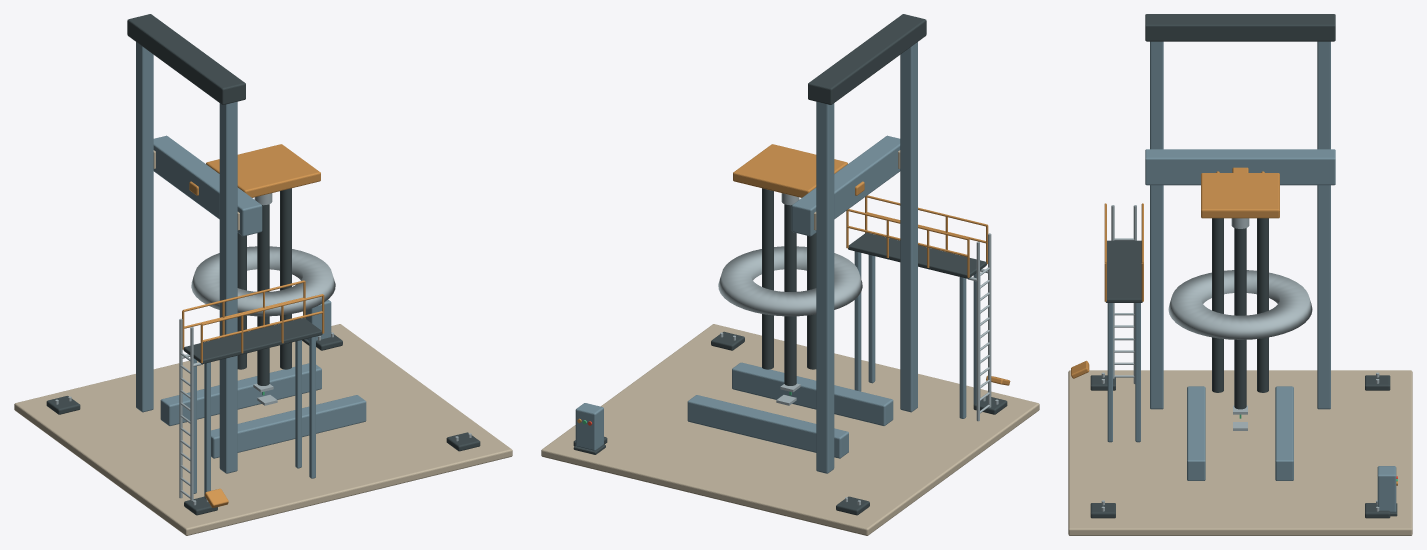
3 renders of one model, left to right at view 1: azimuth 30°, elevation 25°; view 2: azimuth 150°, elevation 25°; view 3: azimuth 270°, elevation 25°, orthographic.
Visible parts, largest first — view 1: foundation, electrode_mast_-1.8, electrode_mast_1.8, refining_roof, mast_bridge, electrode_slide_carriage, ladle_cradle_0.95, ladle_cradle_-0.95, electrode_carrier, lf_service_deck, graphite_electrode_1, graphite_electrode_0 (+7 smaller); view 2: foundation, electrode_mast_-1.8, electrode_mast_1.8, refining_roof, ladle_cradle_-0.95, mast_bridge, ladle_cradle_0.95, electrode_slide_carriage, electrode_carrier, lf_service_deck, graphite_electrode_2, graphite_electrode_0 (+8 smaller); view 3: foundation, refining_roof, electrode_slide_carriage, mast_bridge, electrode_mast_-1.8, electrode_mast_1.8, electrode_carrier, lf_service_deck, graphite_electrode_0, ladle_cradle_-0.95, ladle_cradle_0.95, graphite_electrode_1 (+5 smaller).
Part boxes in pixels (bbox=[...]): foundation: bbox=[14, 324, 512, 535]; electrode_mast_-1.8: bbox=[136, 42, 153, 412]; electrode_mast_1.8: bbox=[219, 101, 237, 473]; refining_roof: bbox=[191, 246, 335, 316]; mast_bridge: bbox=[127, 14, 245, 104]; electrode_slide_carriage: bbox=[153, 135, 262, 236]; ladle_cradle_0.95: bbox=[211, 395, 366, 458]; ladle_cradle_-0.95: bbox=[160, 363, 321, 425]; electrode_carrier: bbox=[206, 144, 320, 197]; lf_service_deck: bbox=[183, 318, 322, 364]; graphite_electrode_1: bbox=[257, 204, 269, 385]; graphite_electrode_0: bbox=[280, 188, 291, 369]; foundation: bbox=[541, 324, 1039, 535]; electrode_mast_-1.8: bbox=[816, 101, 834, 473]; electrode_mast_1.8: bbox=[900, 42, 917, 412]; refining_roof: bbox=[718, 246, 862, 316]; ladle_cradle_-0.95: bbox=[687, 395, 848, 458]; mast_bridge: bbox=[808, 14, 926, 104]; ladle_cradle_0.95: bbox=[732, 362, 893, 425]; electrode_slide_carriage: bbox=[791, 135, 900, 236]; electrode_carrier: bbox=[733, 144, 847, 197]; lf_service_deck: bbox=[848, 232, 986, 278]; graphite_electrode_2: bbox=[784, 204, 796, 385]; graphite_electrode_0: bbox=[762, 188, 773, 369]; foundation: bbox=[1068, 370, 1412, 535]; refining_roof: bbox=[1168, 270, 1312, 339]; electrode_slide_carriage: bbox=[1145, 149, 1335, 185]; mast_bridge: bbox=[1145, 14, 1335, 41]; electrode_mast_-1.8: bbox=[1317, 41, 1330, 409]; electrode_mast_1.8: bbox=[1150, 41, 1163, 409]; electrode_carrier: bbox=[1201, 173, 1279, 218]; lf_service_deck: bbox=[1106, 240, 1142, 302]; graphite_electrode_0: bbox=[1234, 228, 1246, 409]; ladle_cradle_-0.95: bbox=[1275, 386, 1293, 480]; ladle_cradle_0.95: bbox=[1187, 386, 1205, 480]; graphite_electrode_1: bbox=[1212, 218, 1223, 392].
Bounding box in the file's own units: 8.1 × 9.53 × 7.4.
